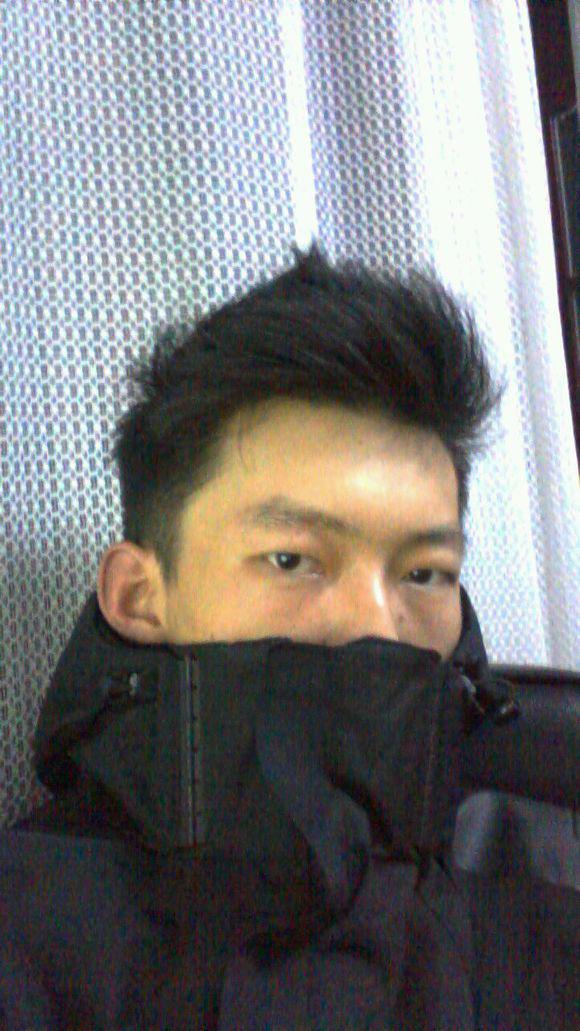WRONG: (191, 452, 470, 726)
